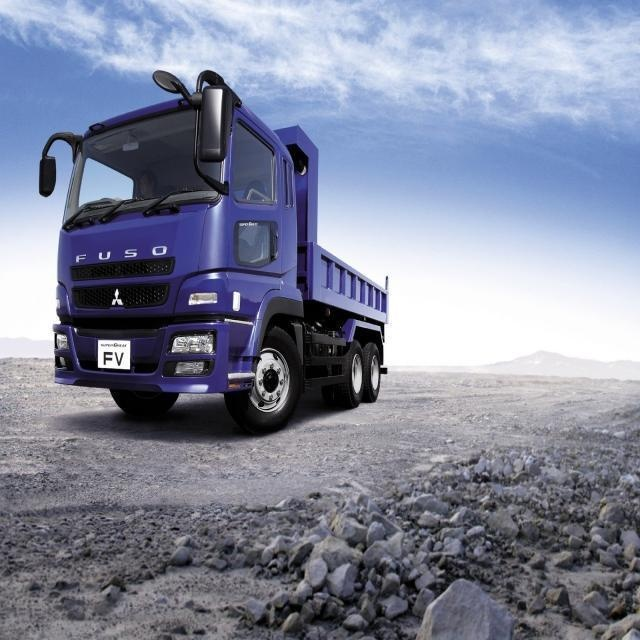Truck: (39, 66, 390, 427)
